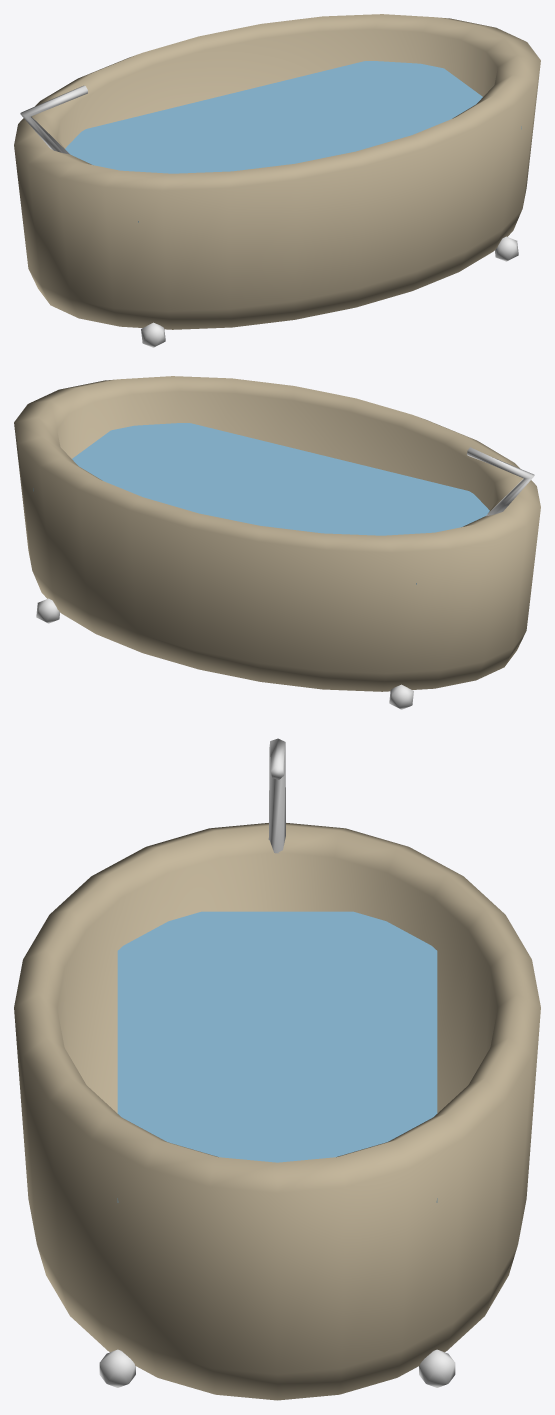
The model's file is boreal_bathtub_v0.glb.
3 views of the same model, one above another, from view 1: azimuth 30°, elevation 25°; view 2: azimuth 150°, elevation 25°; view 3: azimuth 270°, elevation 25° (orthographic). The views are drawn at different scales.
Parts seen in each view (by area): view 1: boreal_bathtub_v0; view 2: boreal_bathtub_v0; view 3: boreal_bathtub_v0.
Boxes of the visible parts, x1=… form: boreal_bathtub_v0: x1=14, y1=14, x2=540, y2=347; boreal_bathtub_v0: x1=14, y1=376, x2=540, y2=709; boreal_bathtub_v0: x1=14, y1=738, x2=540, y2=1400.
Bounding box in the file's own units: 2.51 × 1.08 × 1.49.
